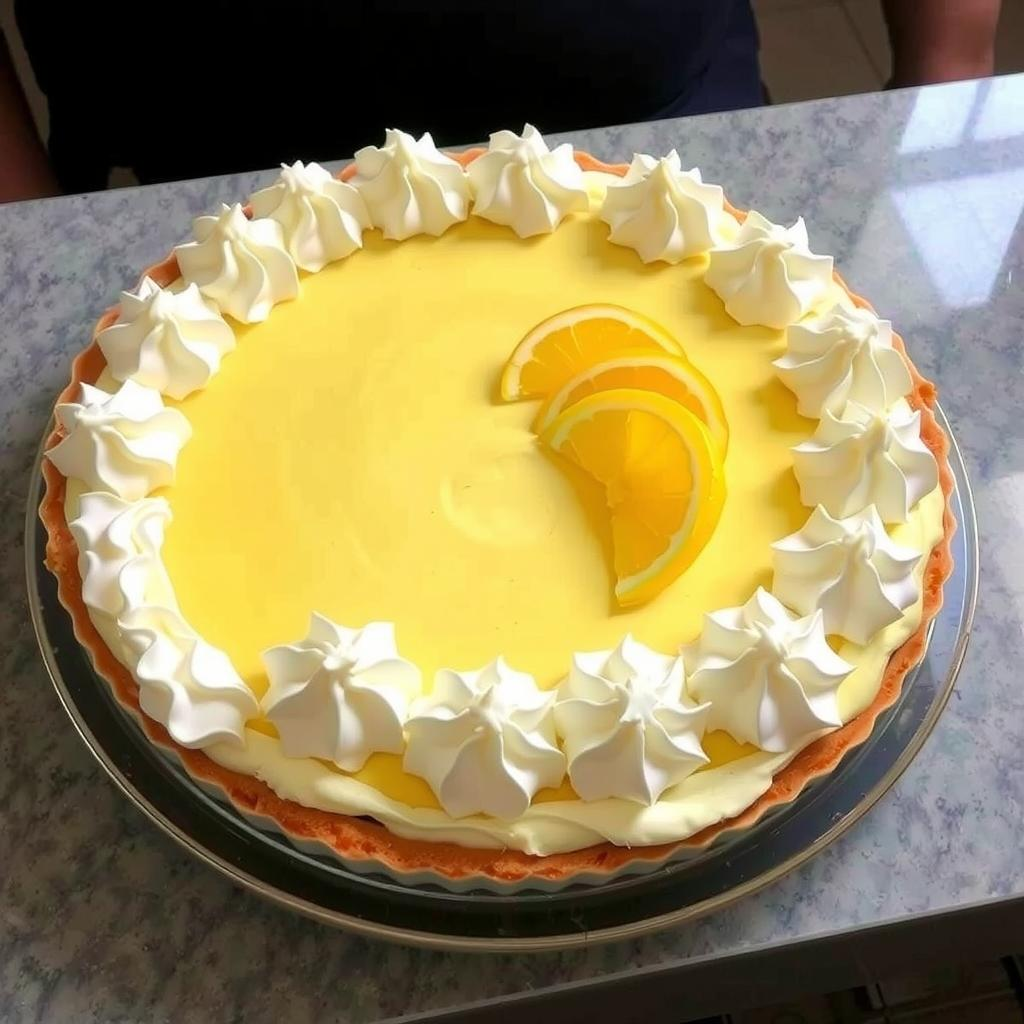pie: (29, 116, 966, 897)
